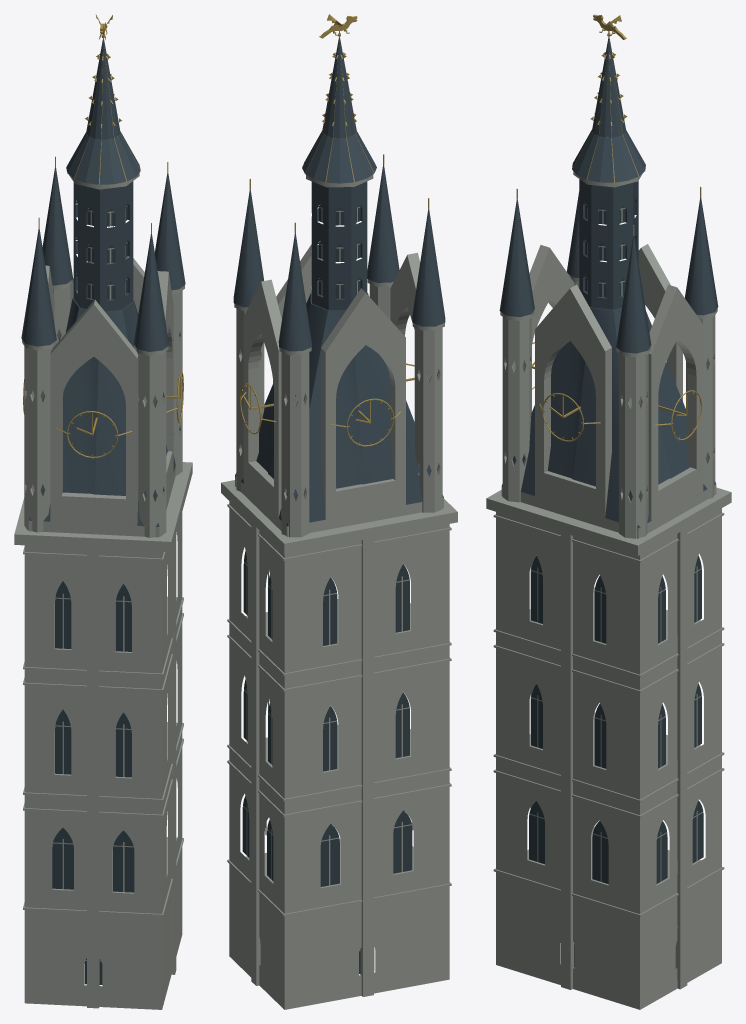
The model's file is ghent-belfry-near.glb.
3 views of the same model, side by side, from view 1: azimuth 30°, elevation 25°; view 2: azimuth 150°, elevation 25°; view 3: azimuth 270°, elevation 25° (orthographic).
Visible parts, largest first — view 1: ghent-belfry-0-stone, ghent-belfry-0-roof, ghent-belfry-0-glass, ghent-belfry-0-gold; view 2: ghent-belfry-0-stone, ghent-belfry-0-roof, ghent-belfry-0-glass, ghent-belfry-0-gold; view 3: ghent-belfry-0-stone, ghent-belfry-0-roof, ghent-belfry-0-glass, ghent-belfry-0-gold.
Boxes of the visible parts, box(x1,y1,x2,y2) form: ghent-belfry-0-stone: box(14, 173, 192, 1009); ghent-belfry-0-roof: box(21, 39, 185, 526); ghent-belfry-0-glass: box(52, 205, 134, 984); ghent-belfry-0-gold: box(23, 14, 183, 458); ghent-belfry-0-stone: box(221, 174, 457, 1009); ghent-belfry-0-roof: box(233, 38, 445, 526); ghent-belfry-0-glass: box(242, 205, 412, 973); ghent-belfry-0-gold: box(239, 14, 429, 446); ghent-belfry-0-stone: box(486, 171, 731, 1009); ghent-belfry-0-roof: box(499, 38, 718, 528); ghent-belfry-0-glass: box(529, 203, 703, 967); ghent-belfry-0-gold: box(516, 14, 702, 441).
Bounding box in the file's own units: 20.77 × 91 × 21.33.
